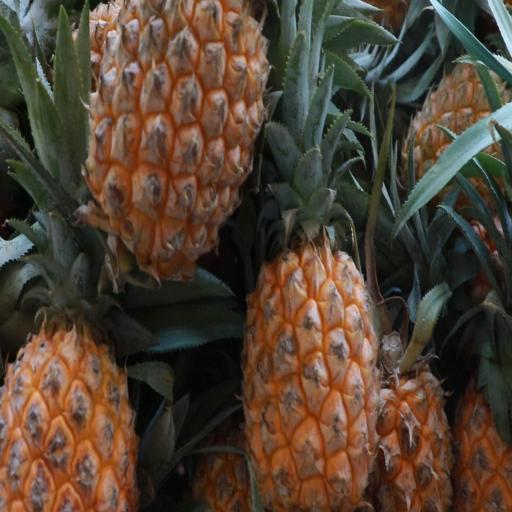Pineapple - v8 v1: (82, 0, 271, 293), (238, 151, 385, 512), (0, 302, 143, 512), (443, 187, 512, 512), (357, 313, 454, 512)
